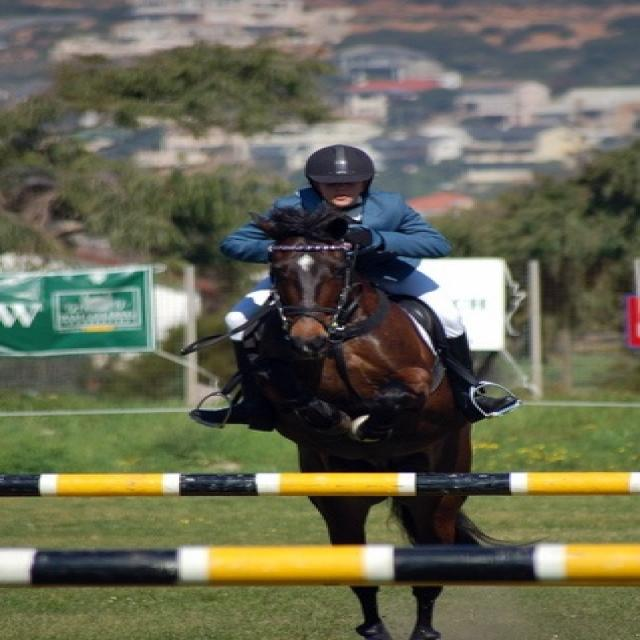horse: (231, 209, 477, 639)
